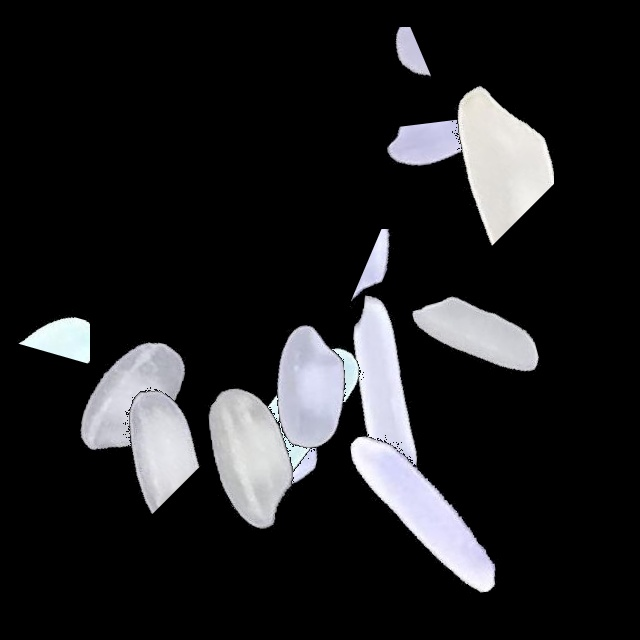Broken: (204, 332, 377, 582), (394, 24, 554, 274), (51, 298, 210, 548), (387, 58, 513, 308), (289, 229, 539, 331), (220, 97, 470, 195), (3, 181, 90, 431), (256, 27, 506, 114)
Full: (350, 214, 600, 464), (262, 263, 512, 513), (149, 321, 399, 571), (6, 273, 256, 523), (297, 388, 547, 638), (165, 305, 415, 555), (187, 262, 437, 512)
